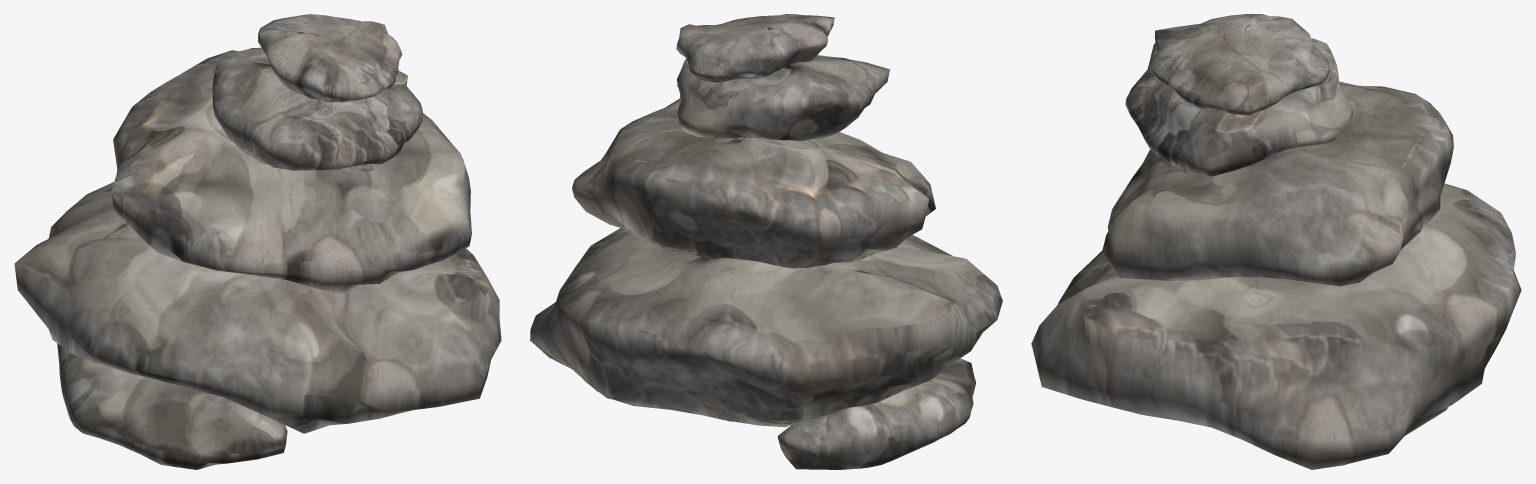
File: Rocks2.fbx
3 views of the same model, side by side, from view 1: azimuth 30°, elevation 25°; view 2: azimuth 150°, elevation 25°; view 3: azimuth 270°, elevation 25° (orthographic). The views are drawn at different scales.
Parts seen in each view (by area): view 1: Rock001, Rock002, Rock003, Rock005, Rock004; view 2: Rock001, Rock002, Rock003, Rock005, Rock004; view 3: Rock001, Rock002, Rock003, Rock004.
Boxes of the visible parts, x1=… form: Rock001: x1=14, y1=182, x2=501, y2=433; Rock002: x1=111, y1=50, x2=471, y2=293; Rock003: x1=212, y1=47, x2=422, y2=170; Rock005: x1=57, y1=343, x2=287, y2=469; Rock004: x1=258, y1=14, x2=402, y2=102; Rock001: x1=530, y1=228, x2=1002, y2=427; Rock002: x1=572, y1=98, x2=935, y2=268; Rock003: x1=676, y1=55, x2=889, y2=140; Rock005: x1=777, y1=358, x2=975, y2=469; Rock004: x1=676, y1=14, x2=834, y2=82; Rock001: x1=1031, y1=183, x2=1521, y2=469; Rock002: x1=1102, y1=81, x2=1453, y2=286; Rock003: x1=1125, y1=38, x2=1352, y2=176; Rock004: x1=1150, y1=14, x2=1329, y2=115.
Bounding box in the file's own units: 217 × 181 × 203.
Materials: 1 (1 with a texture image).
